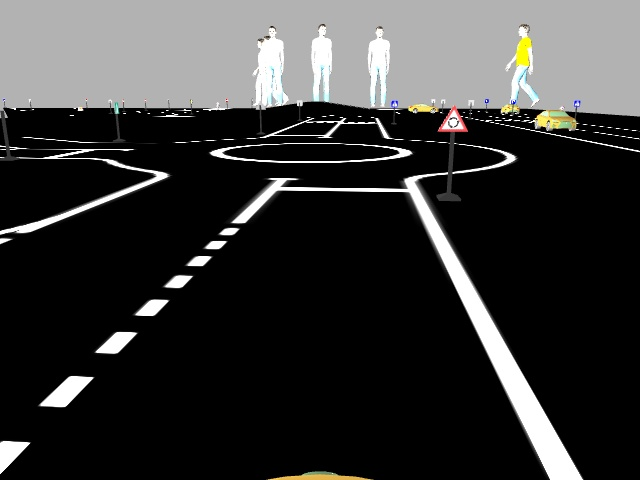Roundabout: (435, 104, 469, 134)
